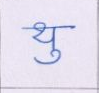u_matra: (34, 50, 62, 65)
